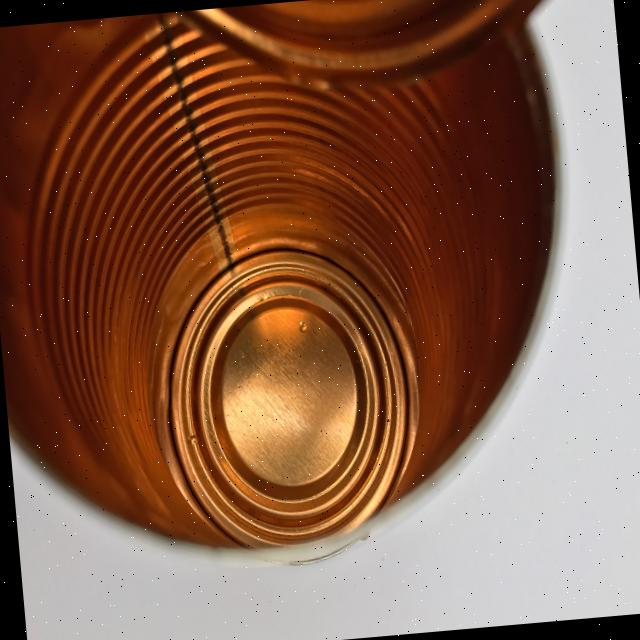metal: (0, 0, 610, 583)
